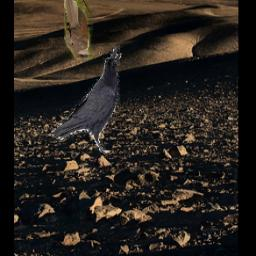Crow: (52, 44, 122, 153)
Cuckoo: (63, 0, 92, 61)
